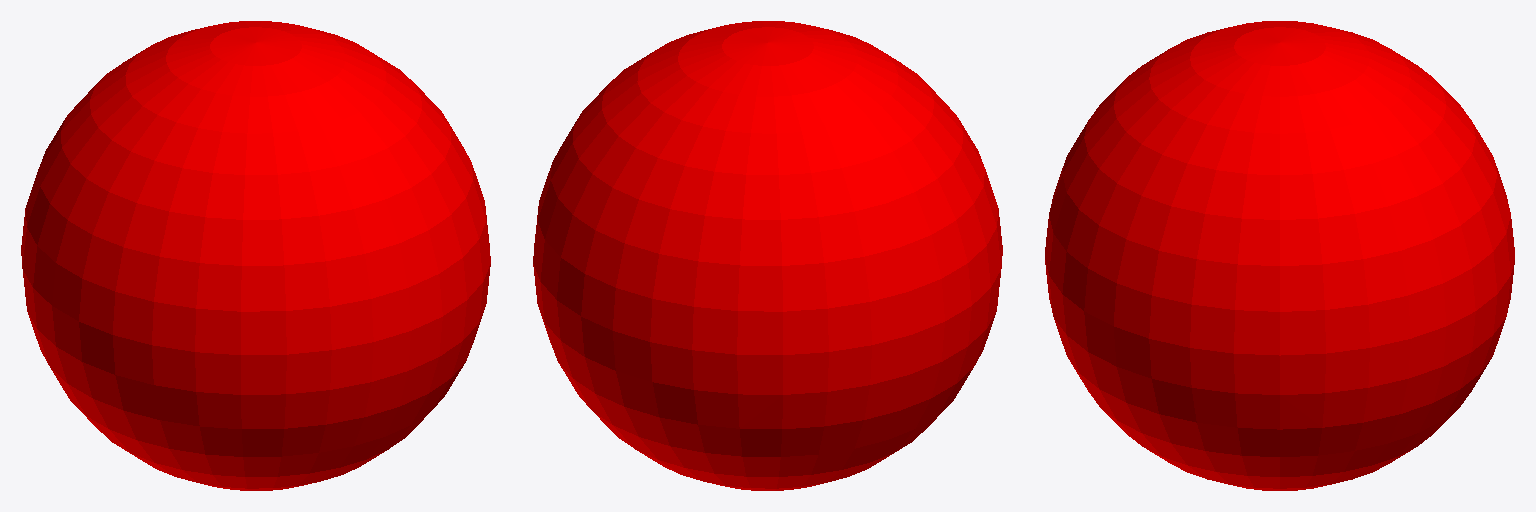
The model's file is Debugbullet.obj.
3 renders of one model, left to right at view 1: azimuth 30°, elevation 25°; view 2: azimuth 150°, elevation 25°; view 3: azimuth 270°, elevation 25°, orthographic.
Visible parts, largest first — view 1: Sphere; view 2: Sphere; view 3: Sphere.
Part boxes in pixels (left/top/right/bottom): Sphere: left=21, top=21, right=490, bottom=490; Sphere: left=533, top=21, right=1002, bottom=490; Sphere: left=1045, top=21, right=1514, bottom=490.
Size of the model in its own units: 0.4 by 0.4 by 0.4.